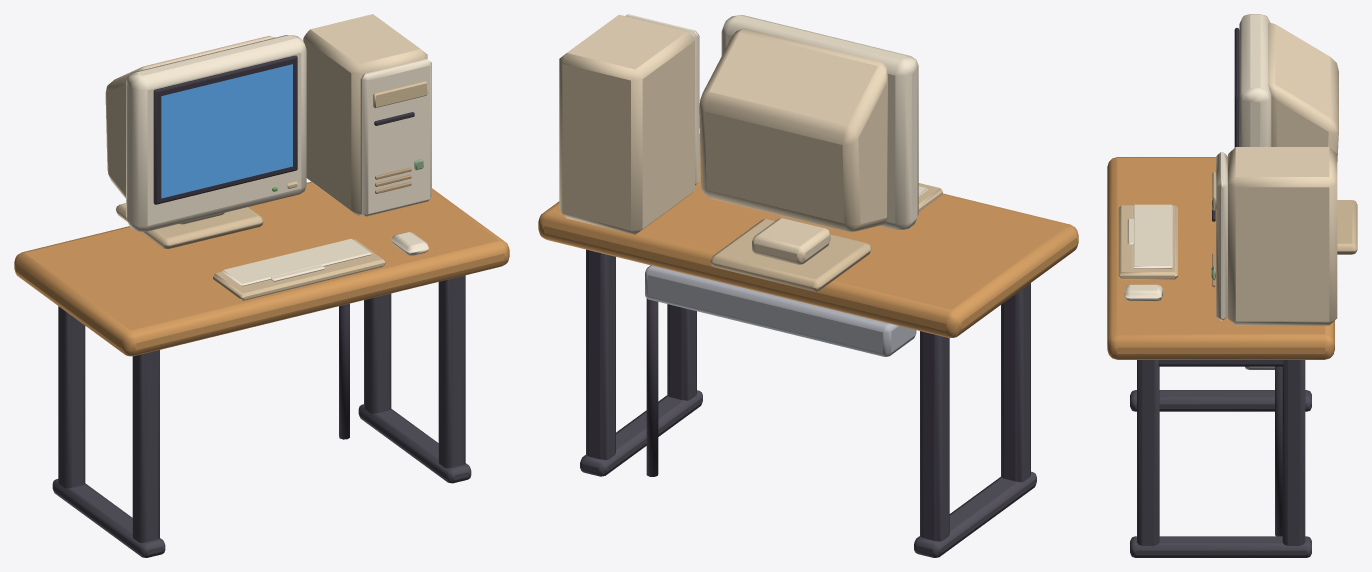
The model's file is era_crt_desk.glb.
3 views of the same model, side by side, from view 1: azimuth 30°, elevation 25°; view 2: azimuth 150°, elevation 25°; view 3: azimuth 270°, elevation 25° (orthographic). The views are drawn at different scales.
Parts seen in each view (by area): view 1: era_crt_desk, crt_screen; view 2: era_crt_desk; view 3: era_crt_desk.
Part boxes in pixels (box(x1,y1,x2,y2)): era_crt_desk: box(14, 14, 509, 557); crt_screen: box(161, 64, 292, 198); era_crt_desk: box(538, 14, 1078, 557); era_crt_desk: box(1107, 14, 1357, 557).
Size of the model in its own units: 0.96 by 1.01 by 0.55.
